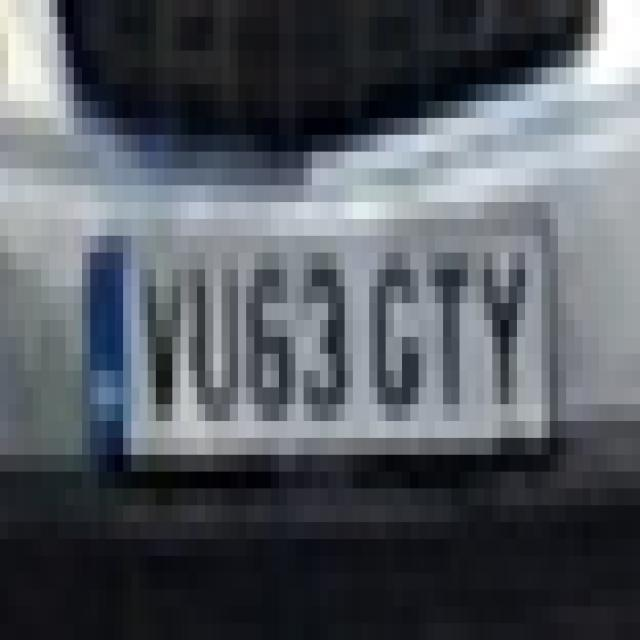3: (296, 245, 358, 424)
6: (243, 251, 297, 427)
C: (370, 239, 428, 422)
T: (430, 236, 473, 411)
U: (189, 258, 244, 421)
V: (133, 252, 188, 434)
Y: (478, 241, 532, 424)
